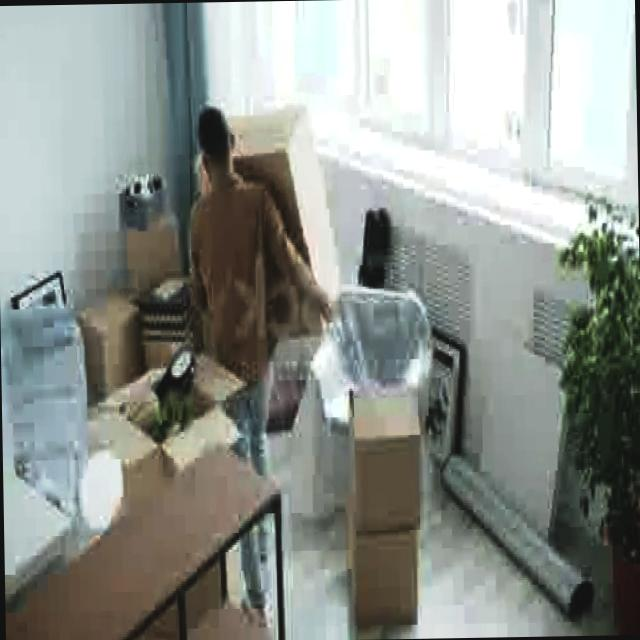Box: (350, 382, 420, 507), (346, 520, 422, 609)
